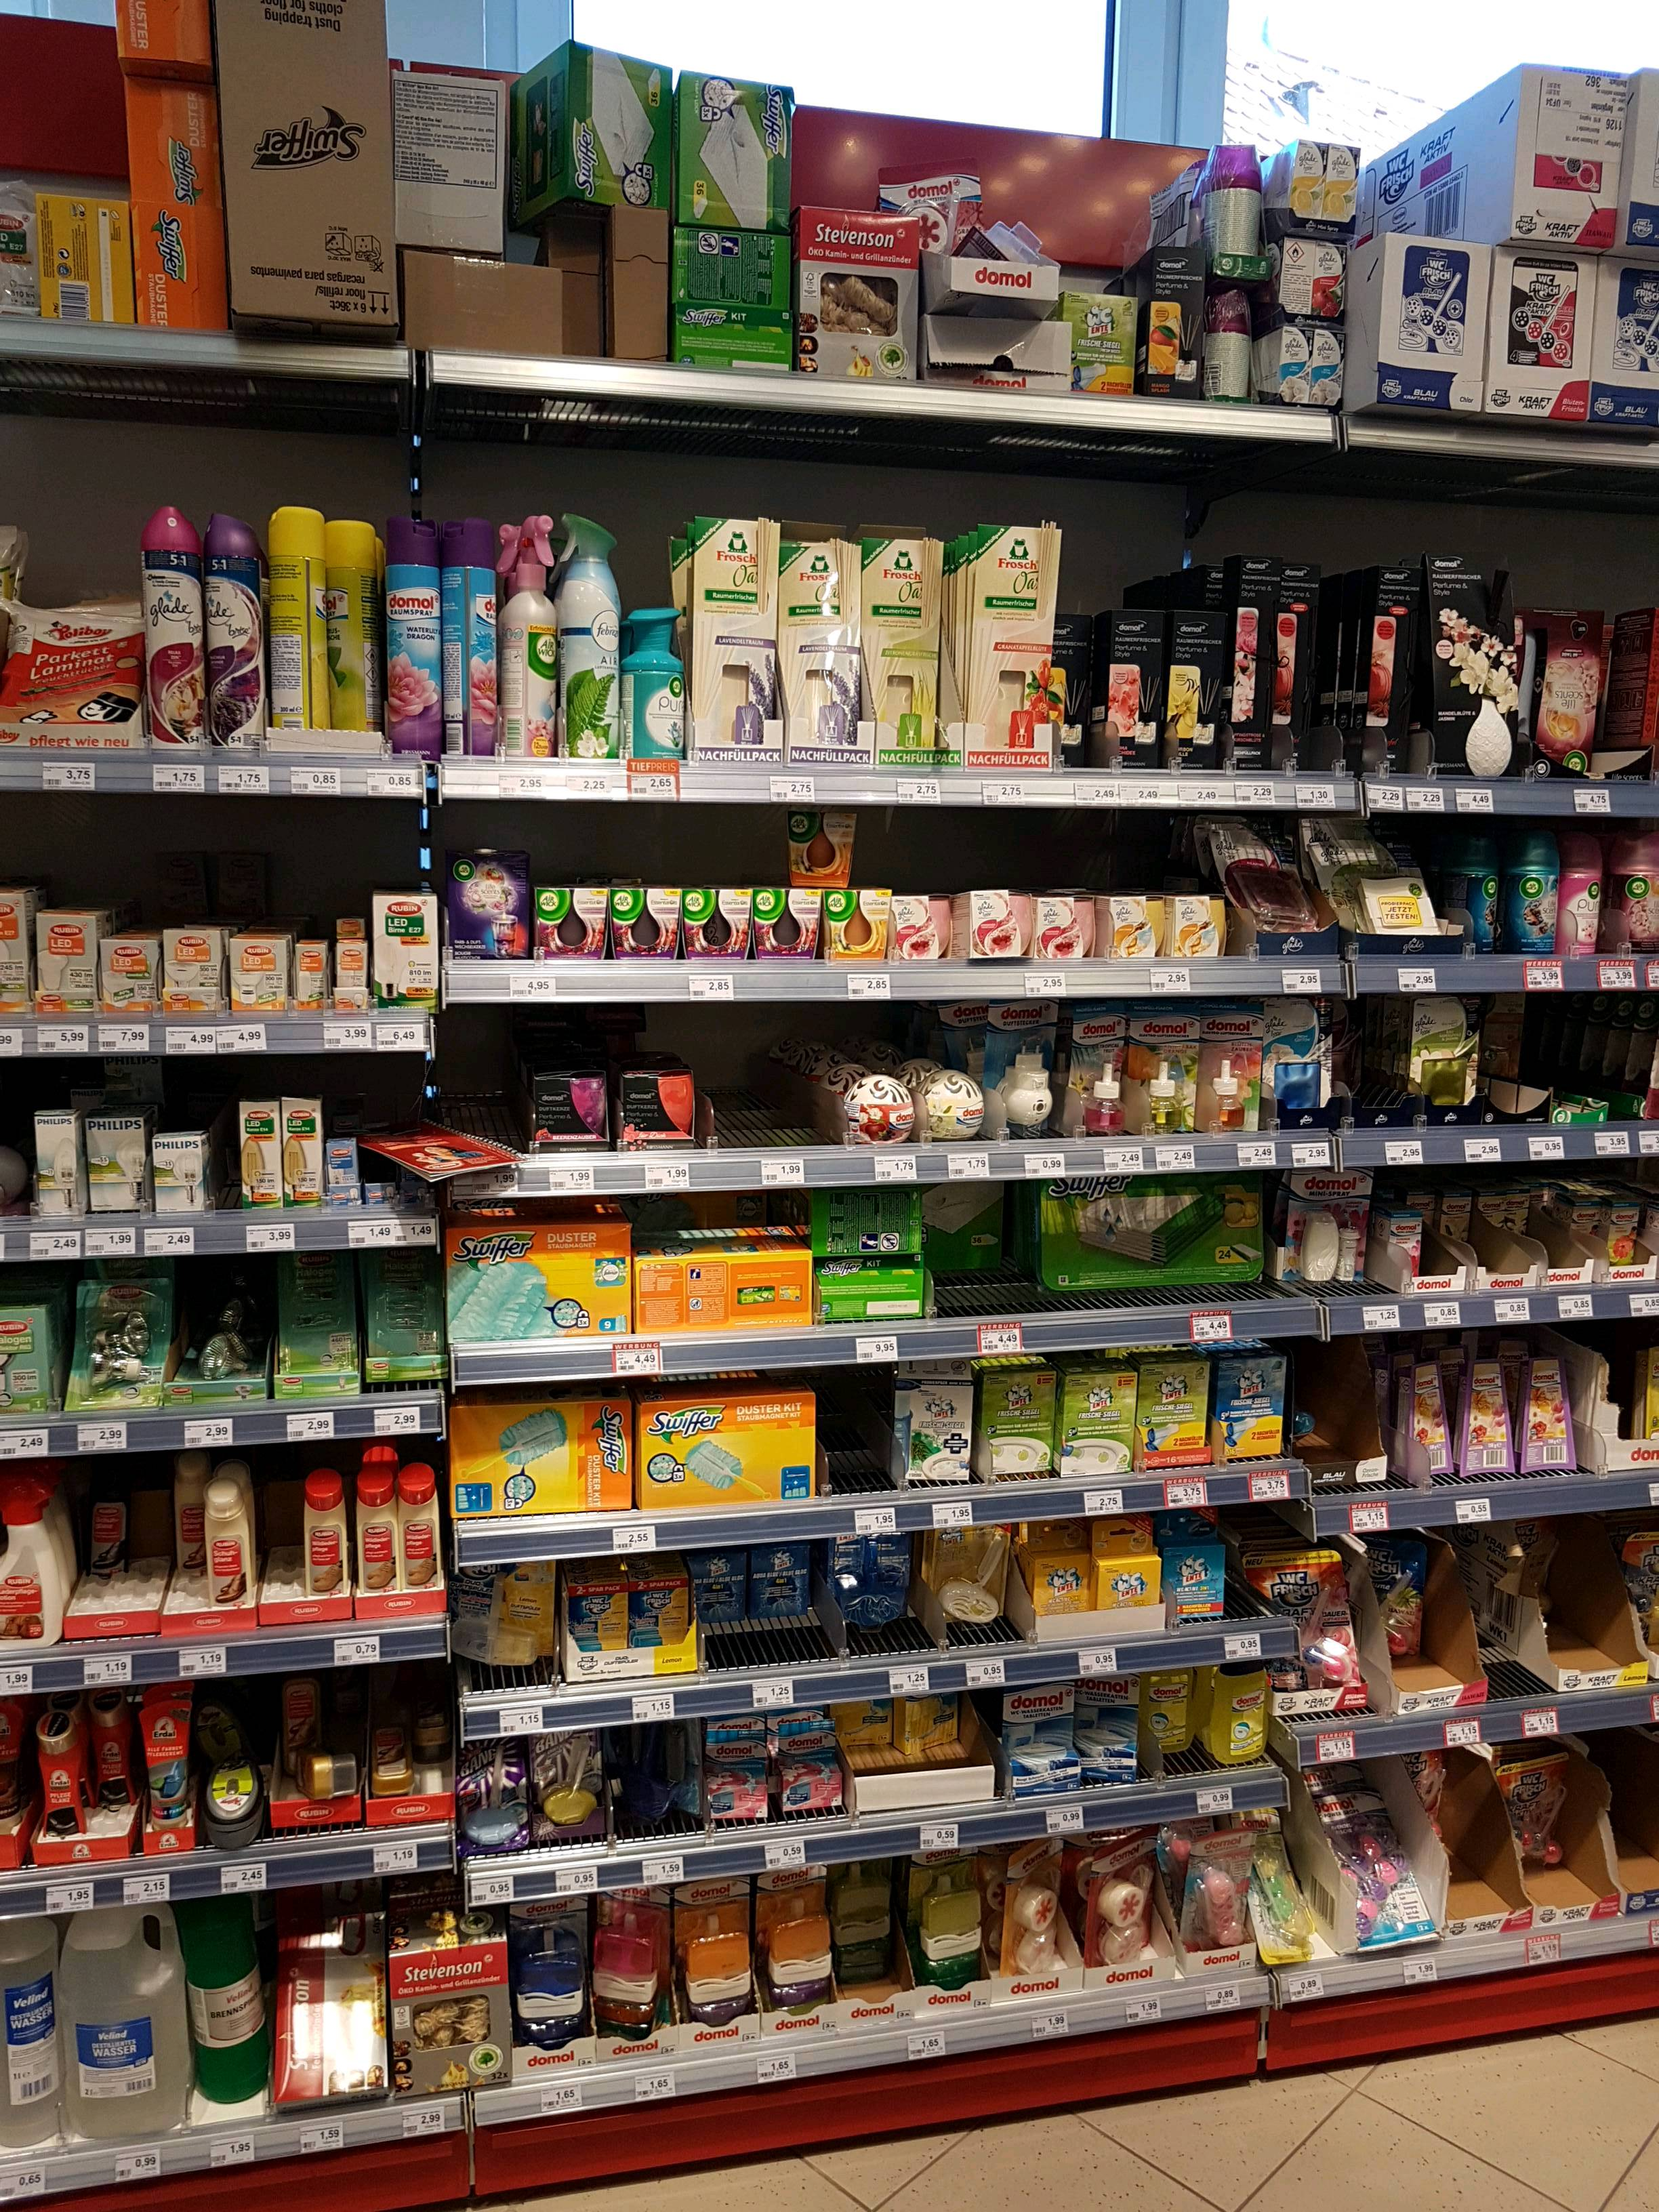Misplacement: (831, 1867, 915, 2027)
Out-of-stock: (711, 1003, 847, 1148)
